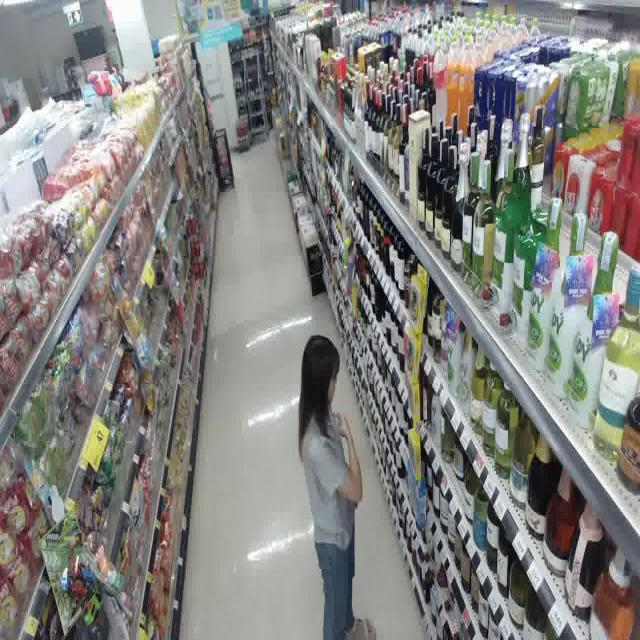shoplifting: (275, 307, 388, 640)
